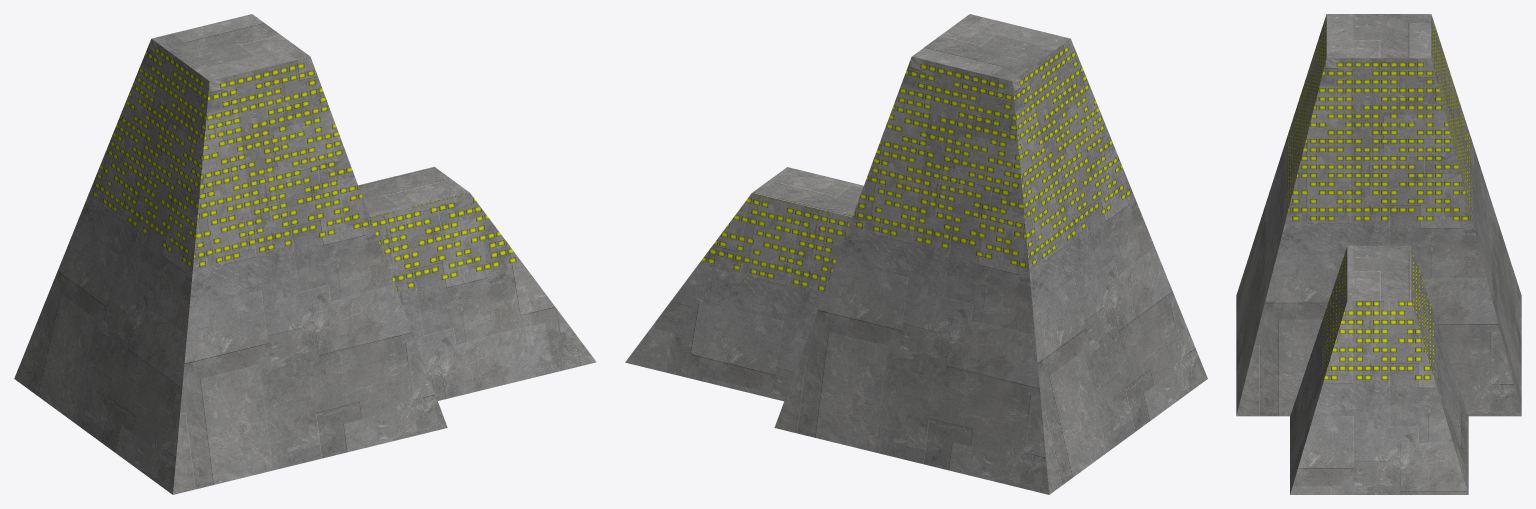
The model's file is SM_Building_06.fbx.
3 renders of one model, left to right at view 1: azimuth 30°, elevation 25°; view 2: azimuth 150°, elevation 25°; view 3: azimuth 270°, elevation 25°, orthographic. The views are drawn at different scales.
Parts seen in each view (by area): view 1: SM_Building_06; view 2: SM_Building_06; view 3: SM_Building_06.
Part boxes in pixels (x1,y1,x2,y2): SM_Building_06: (14,14,596,494); SM_Building_06: (625,14,1207,494); SM_Building_06: (1236,14,1521,494).
Size of the model in its own units: 3.74 by 2.8 by 2.27.
